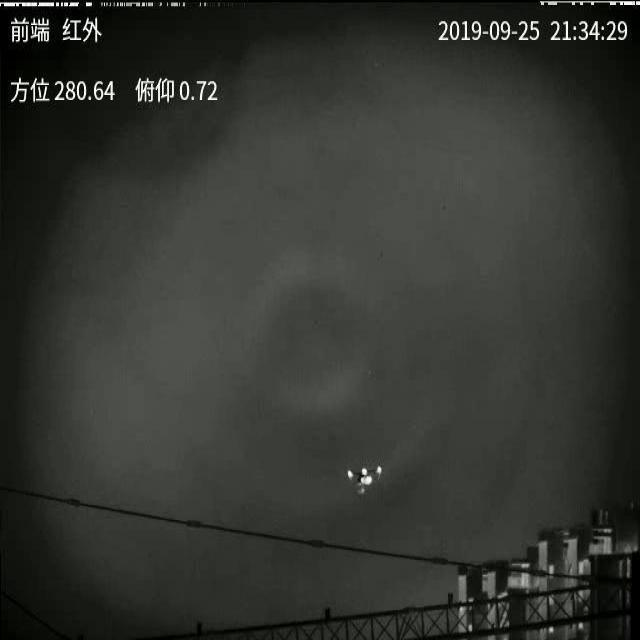drone: (344, 462, 389, 500)
